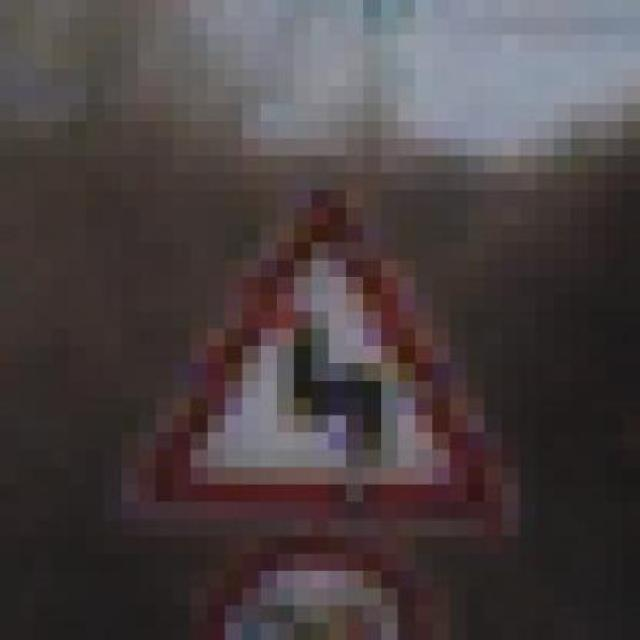Left Zig Zag Traffic: (87, 155, 519, 537)
